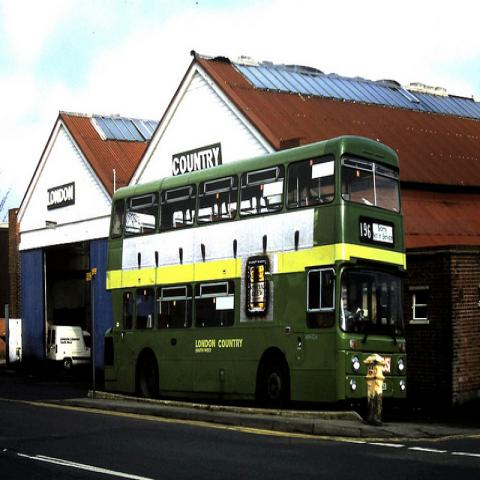bus: (101, 136, 409, 405)
car: (48, 324, 91, 372)
truck: (47, 326, 90, 379)
